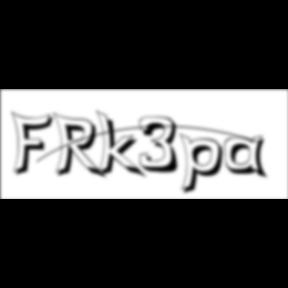3: (139, 116, 185, 176)
F: (11, 110, 59, 178)
R: (53, 112, 110, 182)
a: (225, 135, 273, 182)
k: (96, 108, 148, 181)
p: (180, 132, 230, 198)
